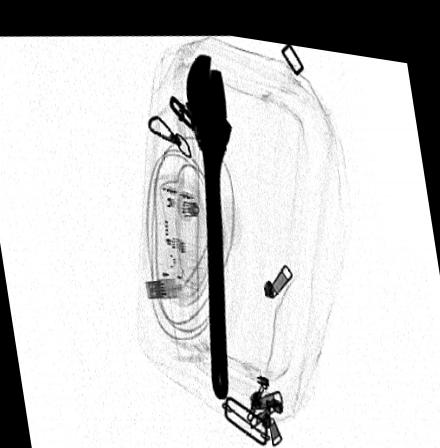Wrench: (186, 47, 231, 392)
